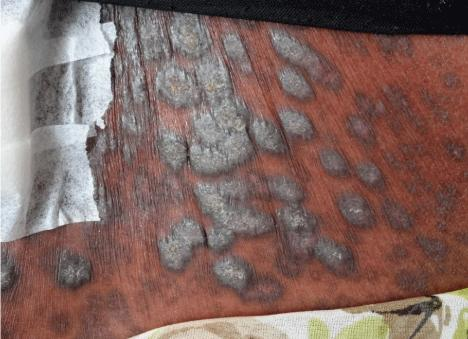hypertrophic lichen planus: (122, 32, 399, 299)
